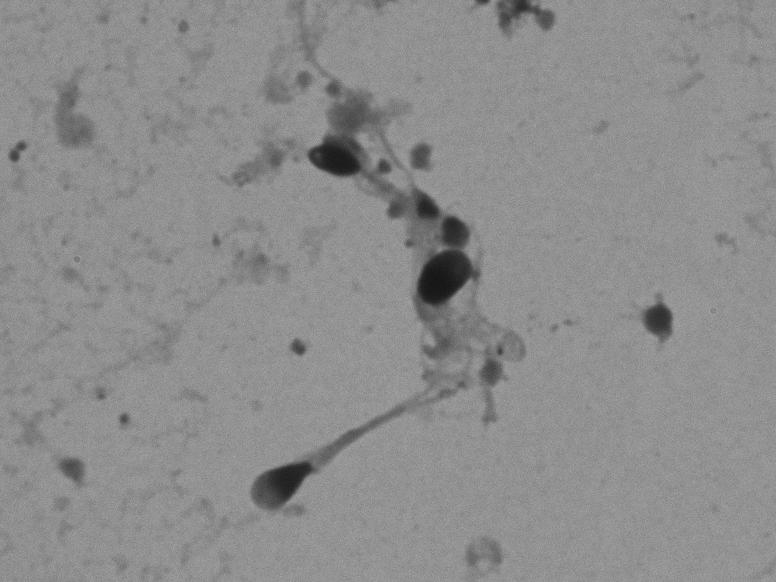Abnormal: (211, 16, 485, 227), (207, 353, 484, 555), (341, 239, 579, 375)
